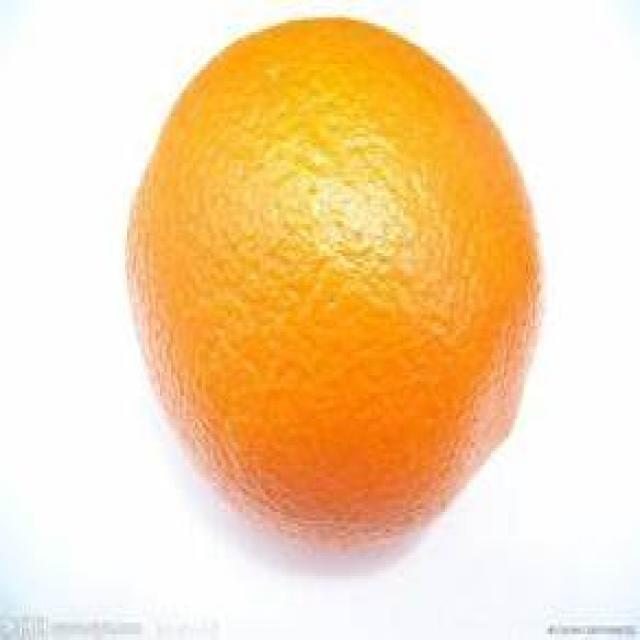Orange: (120, 16, 550, 563)
